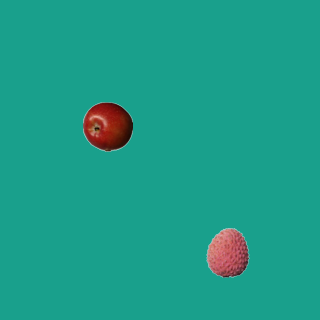Apple Braeburn: (82, 101, 132, 151)
Lychee: (202, 227, 252, 277)
